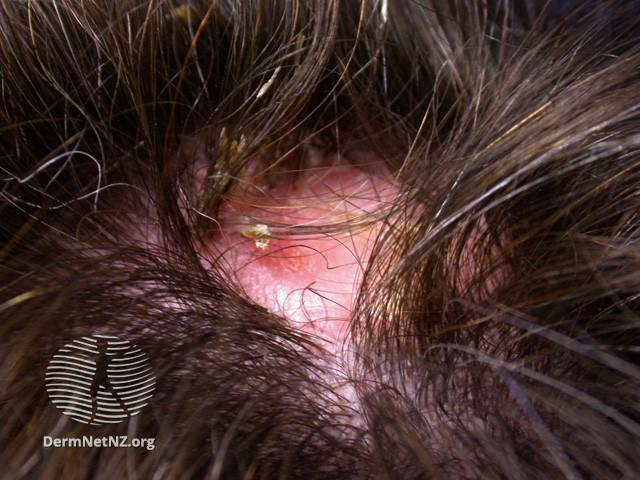Folliculitis: (124, 124, 440, 398)
